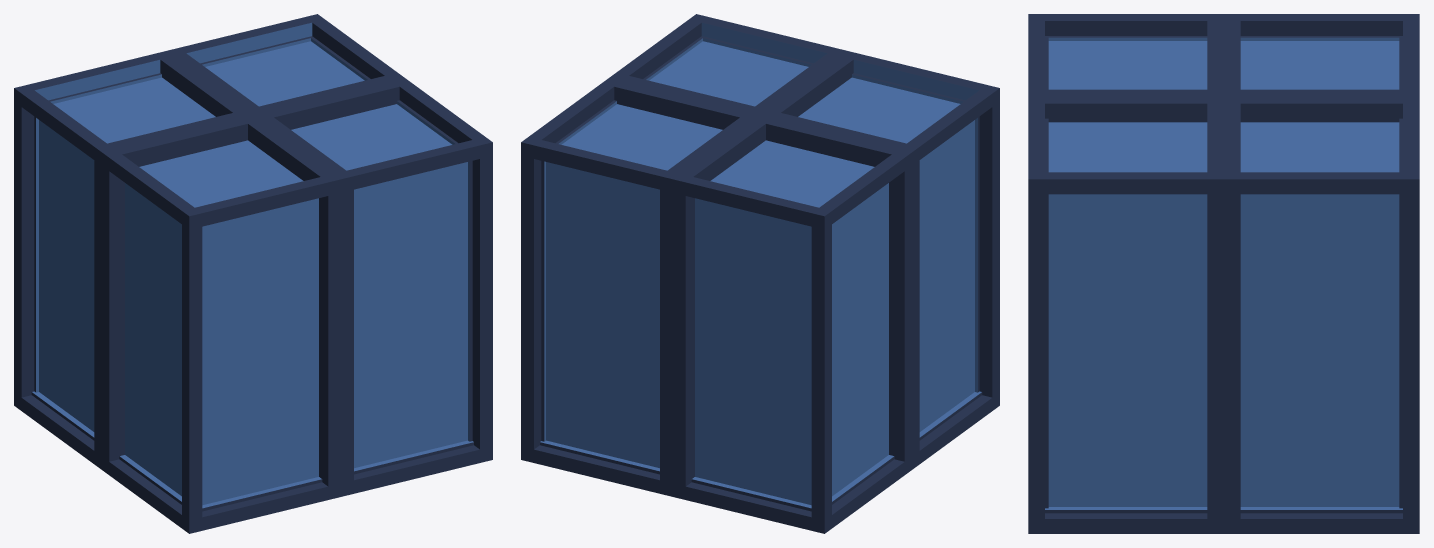
The model's file is CrateModel06.fbx.
3 views of the same model, side by side, from view 1: azimuth 30°, elevation 25°; view 2: azimuth 150°, elevation 25°; view 3: azimuth 270°, elevation 25° (orthographic). The views are drawn at different scales.
Parts seen in each view (by area): view 1: Crate06; view 2: Crate06; view 3: Crate06.
Part boxes in pixels (x1,y1,x2,y2): Crate06: [14, 14, 492, 533]; Crate06: [521, 14, 999, 533]; Crate06: [1028, 14, 1419, 533].
Size of the model in its own units: 95.71 by 95.71 by 95.71.
